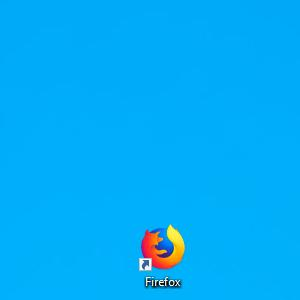firefox: (138, 223, 186, 272)
